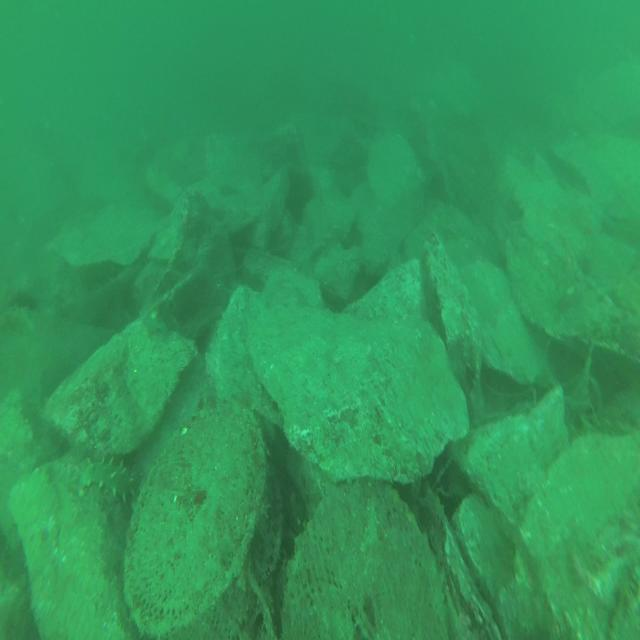holothurian: (78, 454, 146, 503)
